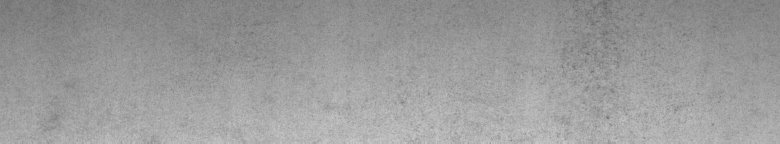ib: (568, 48, 689, 127)
